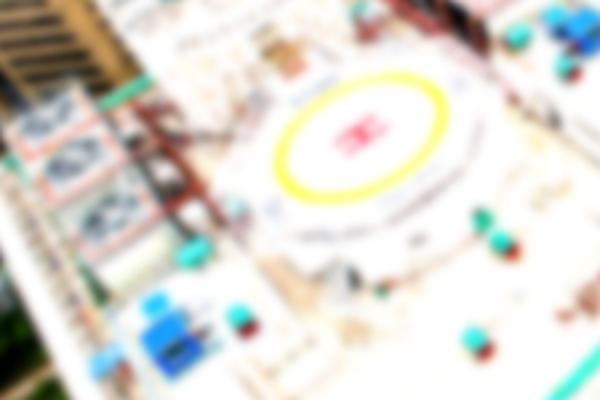Apron: (280, 81, 443, 186)
